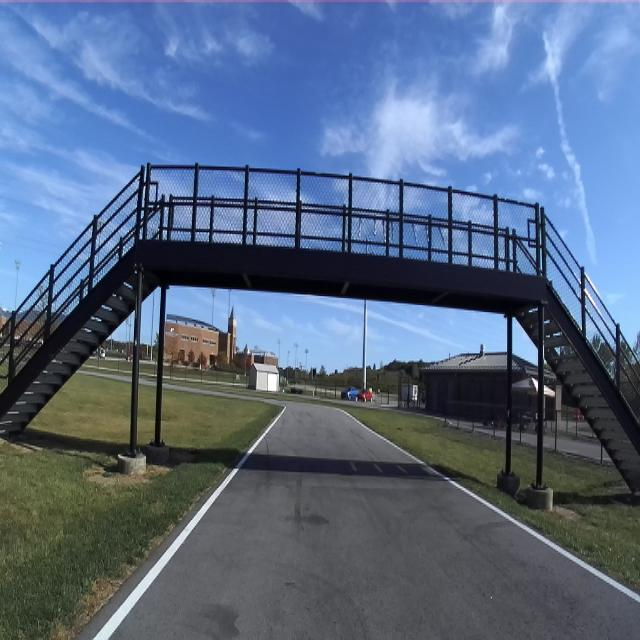white-line: (354, 418, 640, 603), (92, 406, 286, 639)
